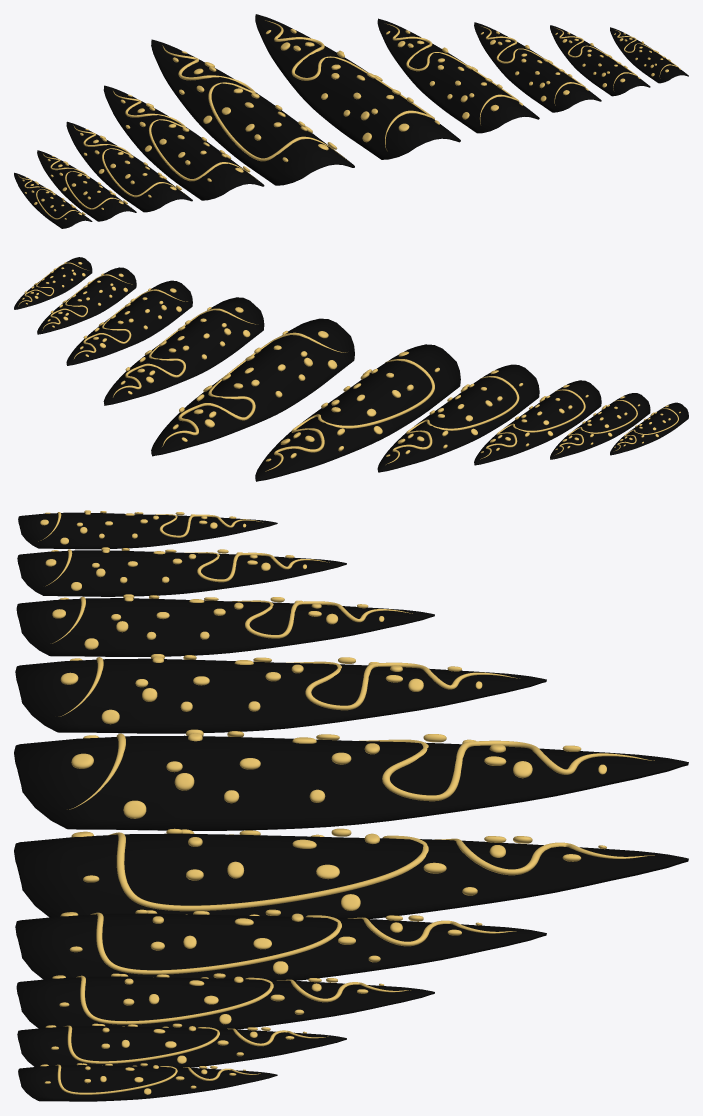
File: nail.glb
3 renders of one model, top to bottom at view 1: azimuth 30°, elevation 25°; view 2: azimuth 150°, elevation 25°; view 3: azimuth 270°, elevation 25°, orthographic. The views are drawn at different scales.
Visible parts, largest first — view 1: StillettoNail_nail_0; view 2: StillettoNail_nail_0; view 3: StillettoNail_nail_0.
Part boxes in pixels (x1,y1,x2,y2): StillettoNail_nail_0: (14,14,688,228); StillettoNail_nail_0: (14,257,688,481); StillettoNail_nail_0: (14,510,688,1101).
Bounding box in the file's own units: 1.15 × 0.0518 × 0.5645.
